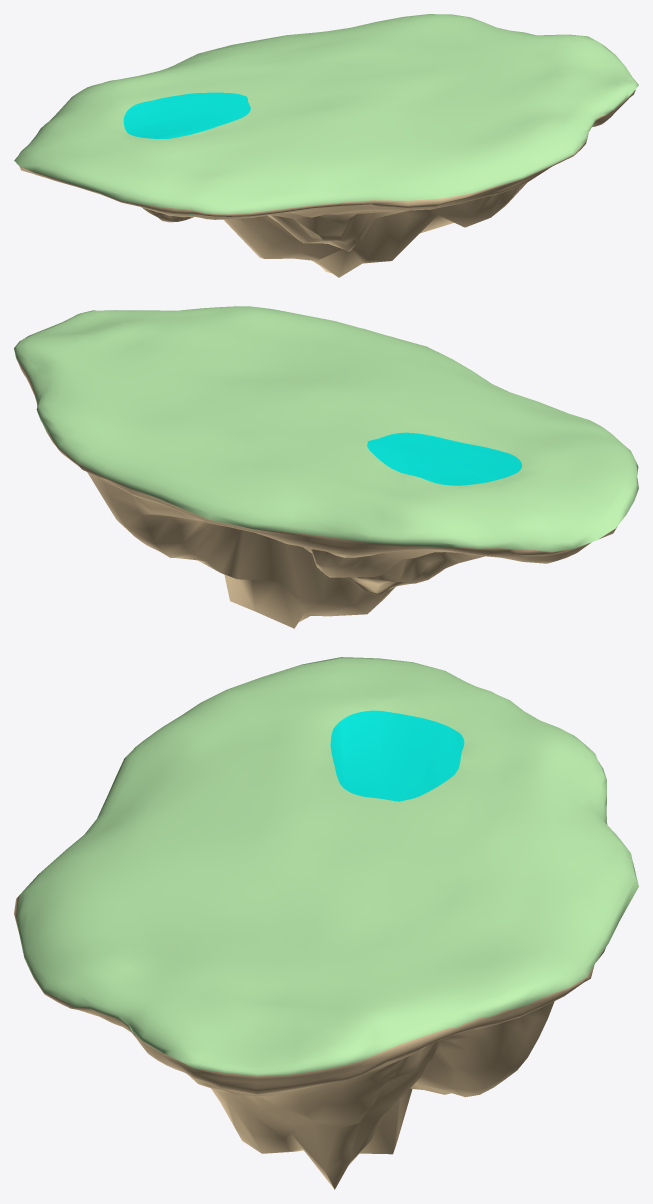
File: land001.gltf
3 views of the same model, one above another, from view 1: azimuth 30°, elevation 25°; view 2: azimuth 150°, elevation 25°; view 3: azimuth 270°, elevation 25° (orthographic). The views are drawn at different scales.
Visible parts, largest first — view 1: node_land001_-39938; view 2: node_land001_-39938; view 3: node_land001_-39938.
Part boxes in pixels (box(x1,y1,x2,y2)): node_land001_-39938: box(14, 14, 638, 277); node_land001_-39938: box(14, 306, 638, 628); node_land001_-39938: box(14, 657, 638, 1189).
Size of the model in its own units: 121 by 39.14 by 77.4.
